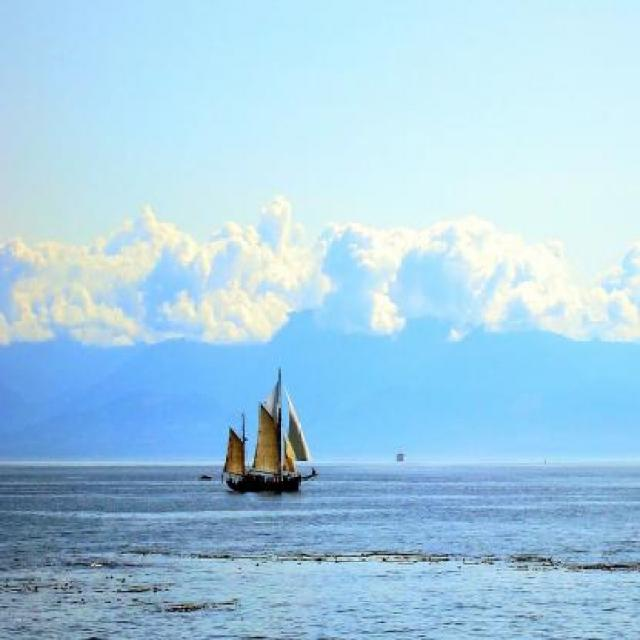ship: (220, 366, 317, 494)
